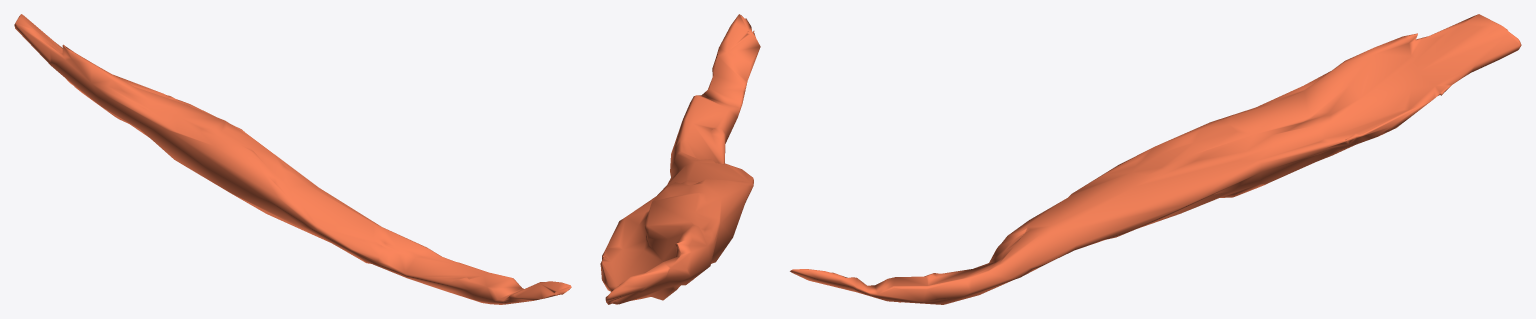
File: Flexor_digiti_minimi_foot_left.glb
3 views of the same model, side by side, from view 1: azimuth 30°, elevation 25°; view 2: azimuth 150°, elevation 25°; view 3: azimuth 270°, elevation 25° (orthographic). The views are drawn at different scales.
Visible parts, largest first — view 1: Flexor_digiti_minimi_of_foot.l_Generated_Mesh_From_X3D.668; view 2: Flexor_digiti_minimi_of_foot.l_Generated_Mesh_From_X3D.668; view 3: Flexor_digiti_minimi_of_foot.l_Generated_Mesh_From_X3D.668.
Part boxes in pixels (<box>): Flexor_digiti_minimi_of_foot.l_Generated_Mesh_From_X3D.668: <box>14,14,571,304</box>; Flexor_digiti_minimi_of_foot.l_Generated_Mesh_From_X3D.668: <box>600,14,760,304</box>; Flexor_digiti_minimi_of_foot.l_Generated_Mesh_From_X3D.668: <box>790,14,1521,304</box>.
Bounding box in the file's own units: 0.033 × 0.0184 × 0.0729.
